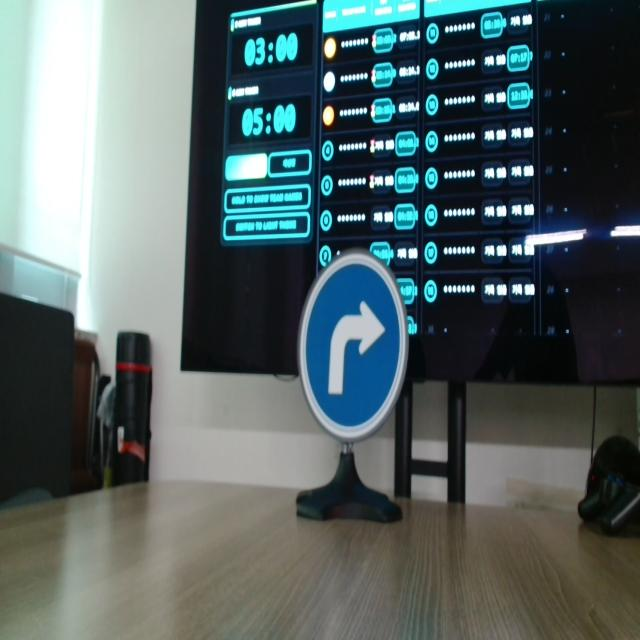right_dierection: (292, 245, 413, 441)
